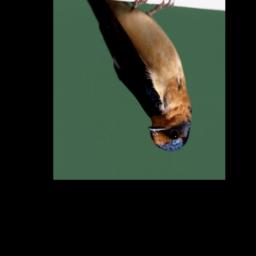Swallow: (86, 0, 191, 153)
